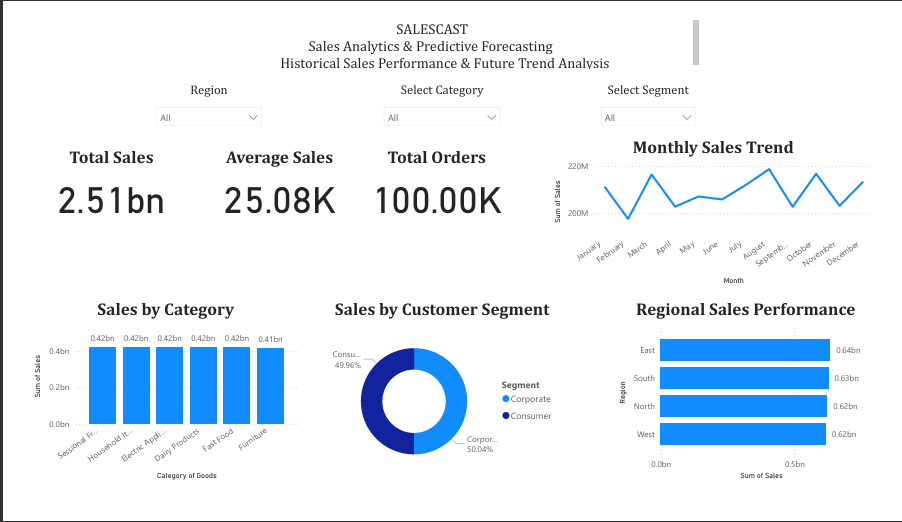

What the dashboard file says about the page in this screenshot:
{"tool":"powerbi","page":{"name":"Salescast","canvas":[1280,720],"ordinal":0},"visuals":[{"type":"textbox","box":[256,0,752,80],"z":0},{"type":"card","title":"Total Sales","fields":{"Values":["Sum(store_sales_data.Sales)"]},"box":[32,192,208,112],"z":1000},{"type":"card","title":"Average Sales","fields":{"Values":["Avg(store_sales_data.Sales)"]},"box":[288,192,192,112],"z":2000},{"type":"card","title":"Total Orders","fields":{"Values":["CountNonNull(store_sales_data.Order ID)"]},"box":[512,192,208,112],"z":3000},{"type":"lineChart","title":"Monthly Sales Trend","fields":{"Category":["store_sales_data.Sales Date.Variation.Date Hierarchy.Month"],"Y":["Sum(store_sales_data.Sales)"]},"box":[784,176,480,224],"z":4000},{"type":"clusteredColumnChart","title":"Sales by Category","fields":{"Category":["store_sales_data.Category of Goods"],"Y":["Sum(store_sales_data.Sales)"]},"box":[16,416,400,272],"z":5000},{"type":"barChart","title":"Regional Sales Performance","fields":{"Category":["store_sales_data.Region"],"Y":["Sum(store_sales_data.Sales)"]},"box":[880,416,384,272],"z":6000},{"type":"donutChart","title":"Sales by Customer Segment","fields":{"Category":["store_sales_data.Segment"],"Y":["Sum(store_sales_data.Sales)"]},"box":[448,416,352,272],"z":7000},{"type":"slicer","title":"Region","fields":{"Values":["store_sales_data.Region"]},"box":[192,96,176,80],"z":8000},{"type":"slicer","title":"Select Category","fields":{"Values":["store_sales_data.Category of Goods"]},"box":[528,96,192,96],"z":9000},{"type":"slicer","title":"Select Segment","fields":{"Values":["store_sales_data.Segment"]},"box":[848,96,160,80],"z":10000}]}

Visuals, with their boxes in screenshot pixels (x1, y1, x2, y2), scaled from the page's 1280x720 canvas onto the 902x522 screenshot:
textbox: x1=180, y1=0, x2=710, y2=58
"Total Sales" card: x1=23, y1=139, x2=169, y2=220
"Average Sales" card: x1=203, y1=139, x2=338, y2=220
"Total Orders" card: x1=361, y1=139, x2=507, y2=220
"Monthly Sales Trend" lineChart: x1=552, y1=128, x2=891, y2=290
"Sales by Category" clusteredColumnChart: x1=11, y1=302, x2=293, y2=499
"Regional Sales Performance" barChart: x1=620, y1=302, x2=891, y2=499
"Sales by Customer Segment" donutChart: x1=316, y1=302, x2=564, y2=499
"Region" slicer: x1=135, y1=70, x2=259, y2=128
"Select Category" slicer: x1=372, y1=70, x2=507, y2=139
"Select Segment" slicer: x1=598, y1=70, x2=710, y2=128
